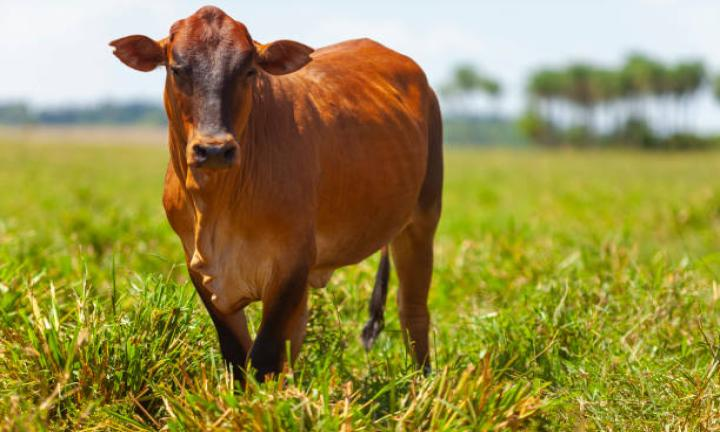Brahman: (109, 6, 441, 374)
